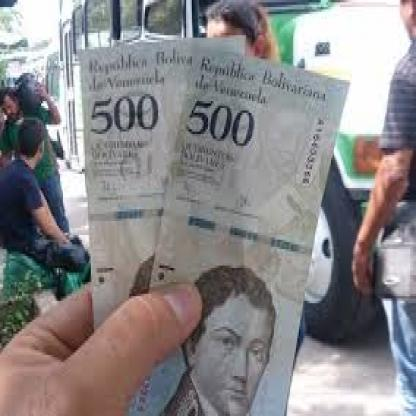billete: (77, 38, 348, 414)
